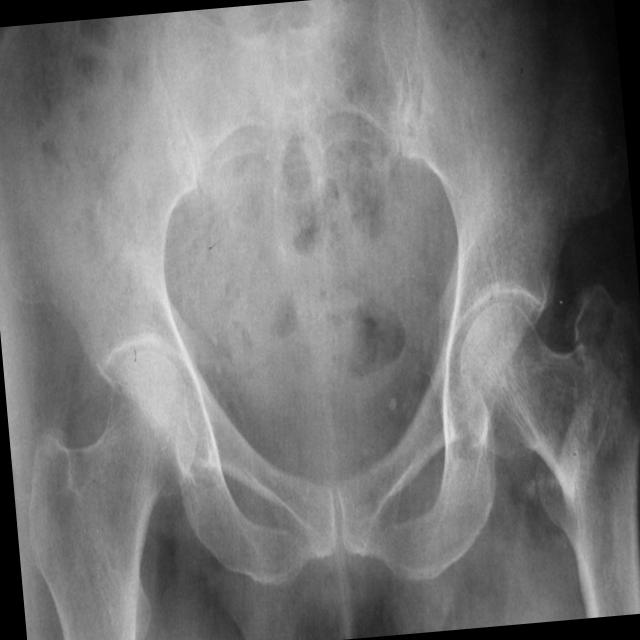left-intertrochanteric: (536, 283, 640, 618), (460, 300, 586, 501)
normal-right: (28, 349, 196, 640)
